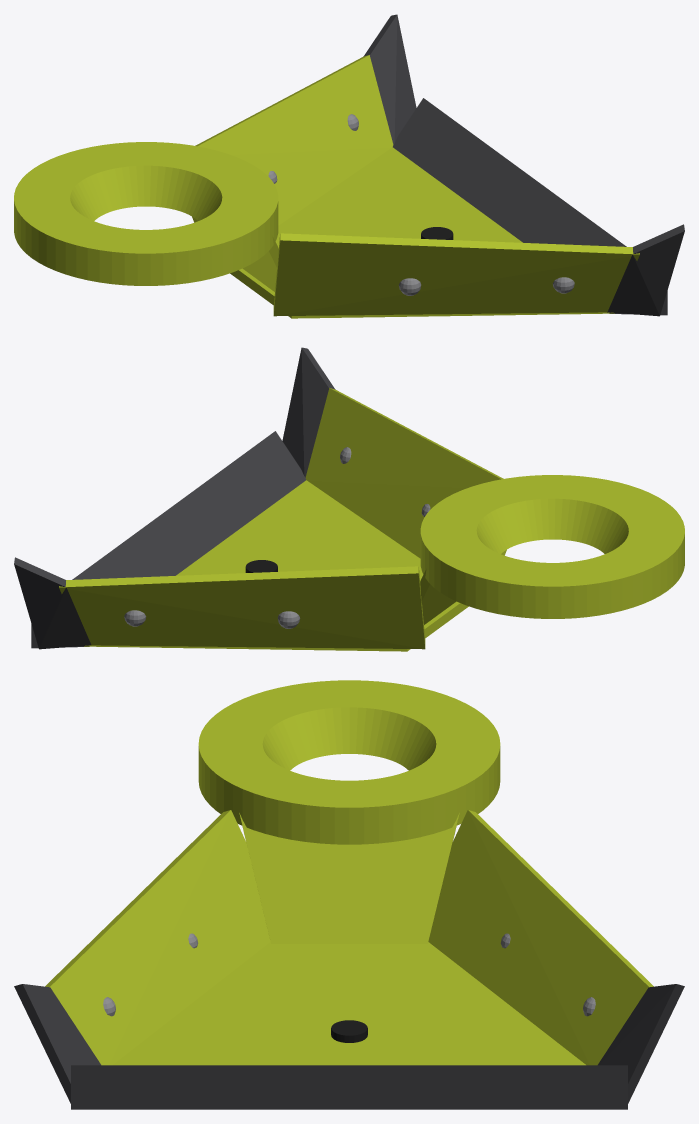
File: mini_dust_pan.glb
3 renders of one model, top to bottom at view 1: azimuth 30°, elevation 25°; view 2: azimuth 150°, elevation 25°; view 3: azimuth 270°, elevation 25°, orthographic. The views are drawn at different scales.
Visible parts, largest first — view 1: geometry_0; view 2: geometry_0; view 3: geometry_0.
Part boxes in pixels (x1,y1,x2,y2): geometry_0: [14, 14, 684, 318]; geometry_0: [14, 347, 684, 651]; geometry_0: [14, 680, 684, 1109].
Bounding box in the file's own units: 0.178 × 0.0416 × 0.1764.
